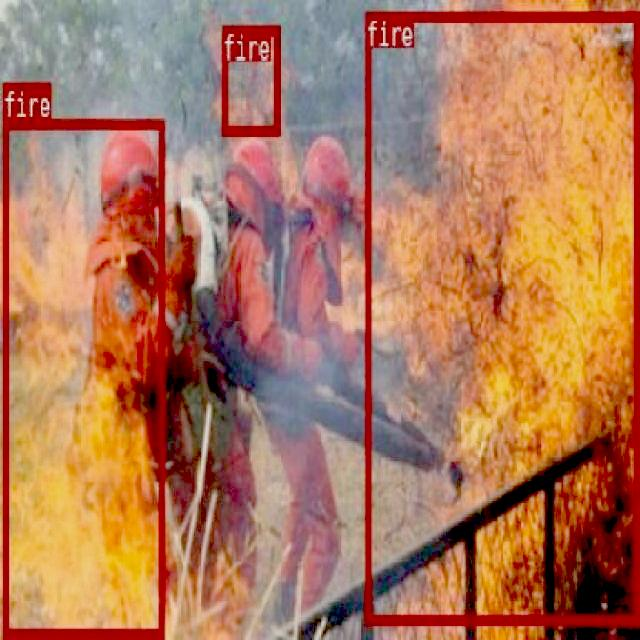fire: (364, 9, 638, 622), (2, 117, 162, 636), (222, 24, 278, 134)
